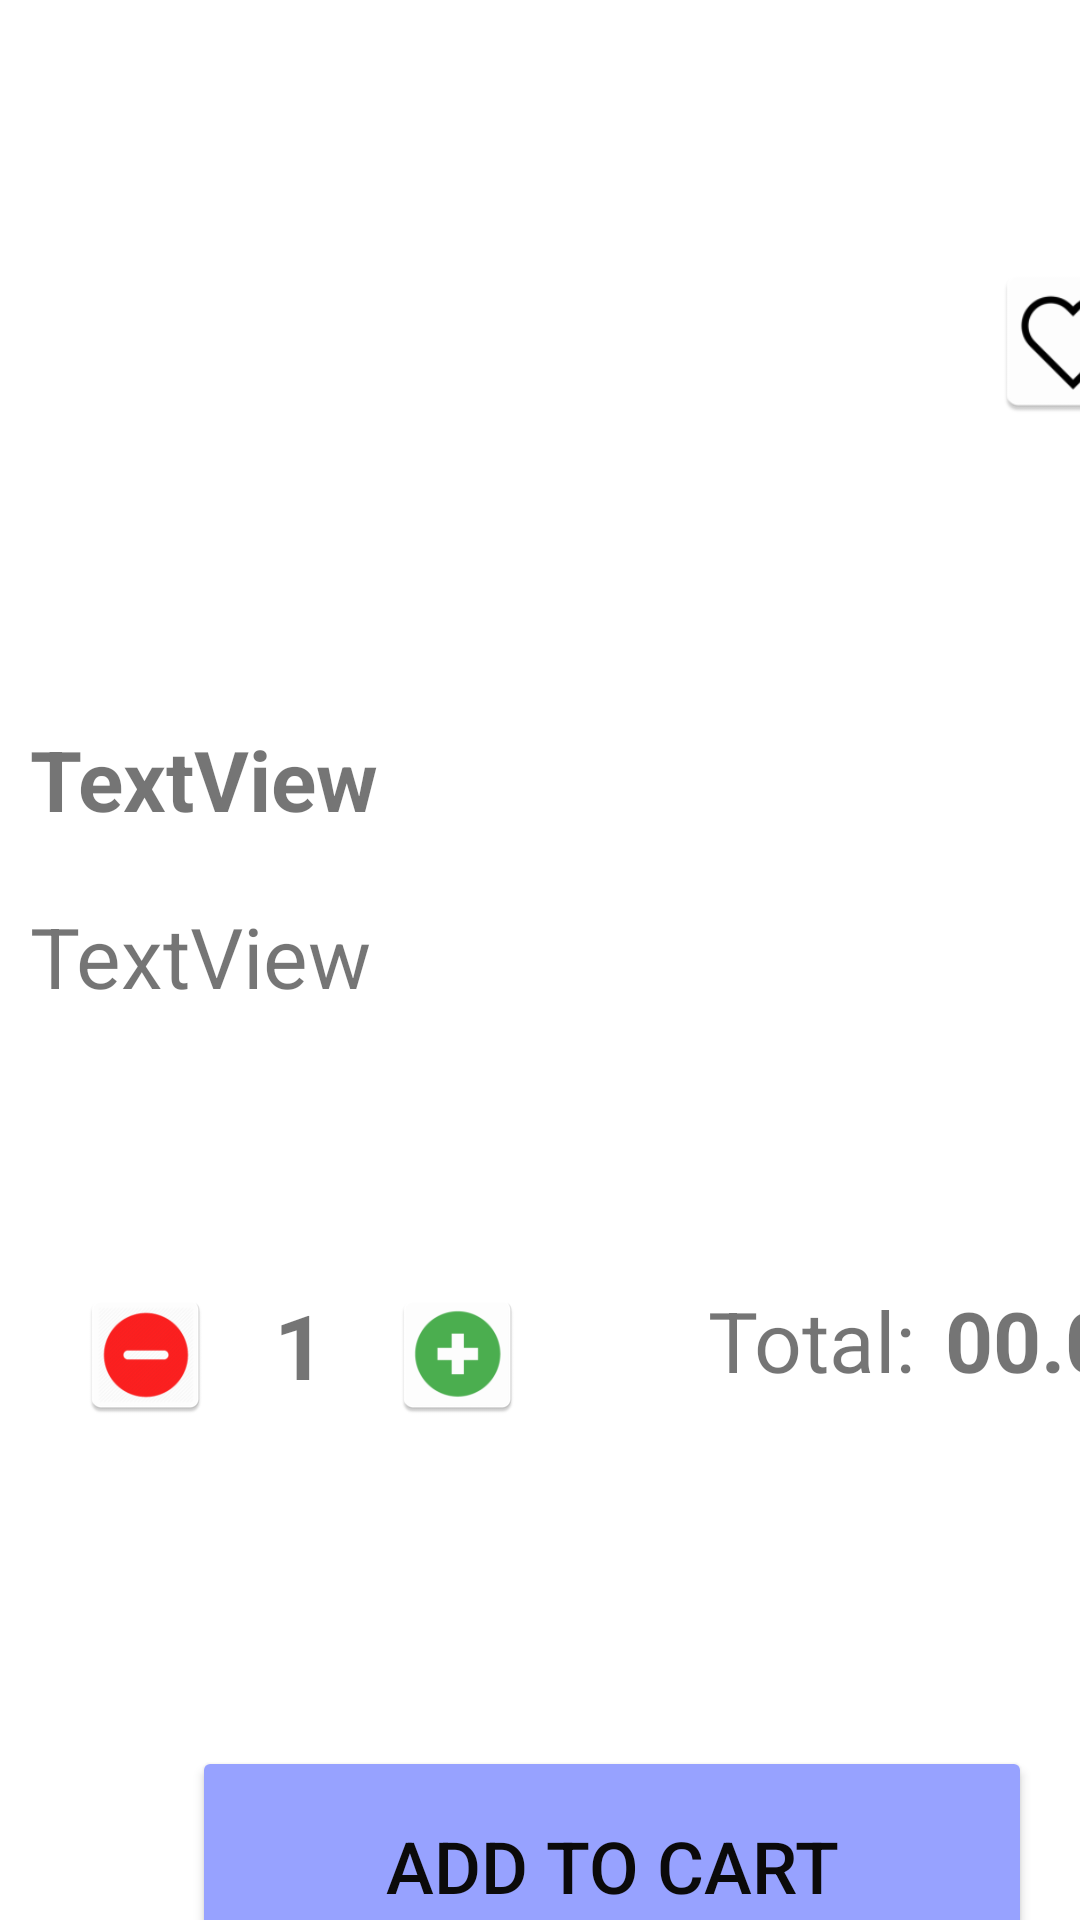

Icon click points for this 1080px x 1920px phone screenshot, format [x,y]:
minus: [146,1359]
plus: [458,1359]
